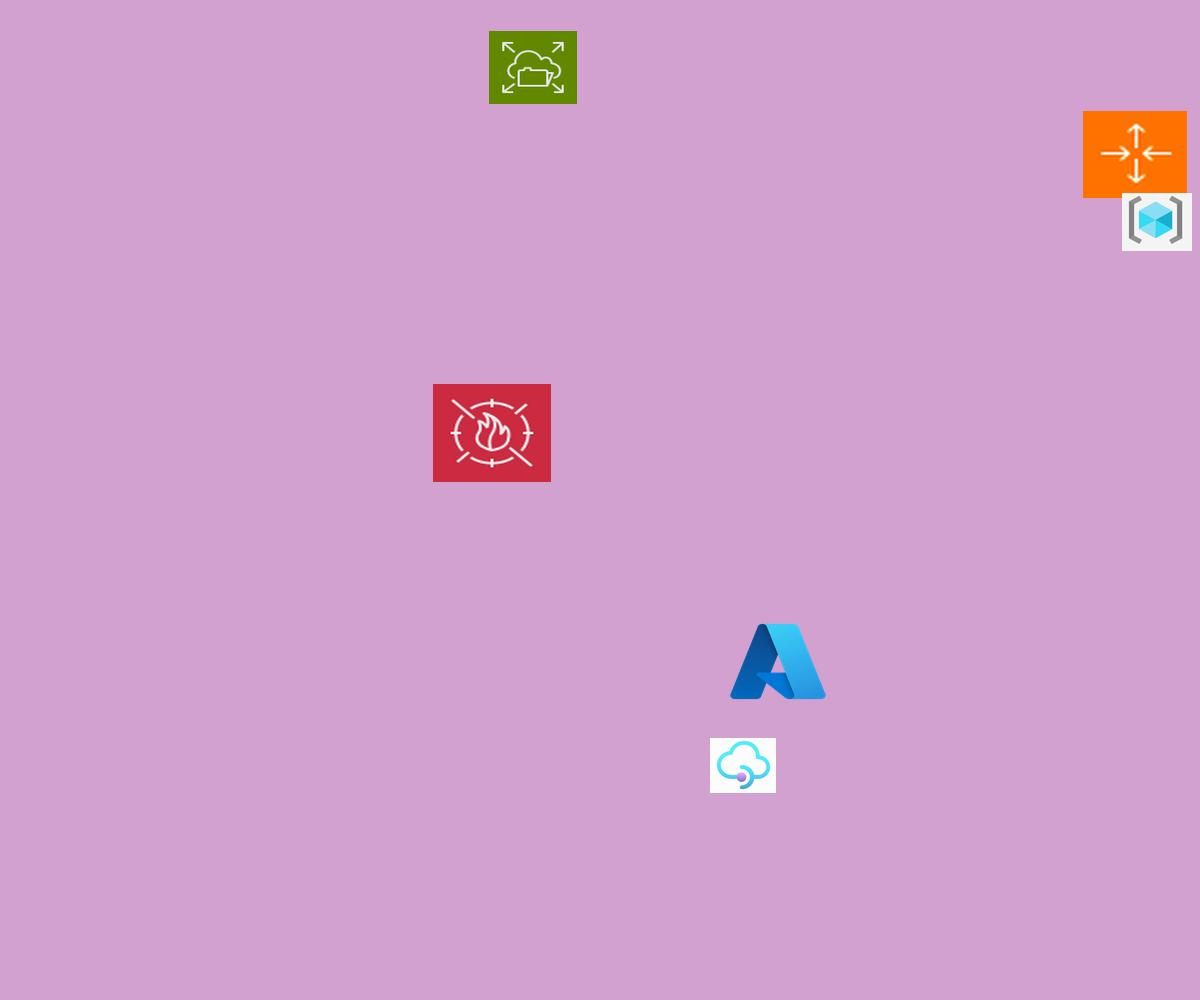AWS-EFS: (489, 31, 577, 104)
AWS-Scaling-group: (1083, 111, 1187, 198)
AWS-WAF: (433, 384, 551, 482)
Azure_api_gateway: (710, 738, 776, 793)
Azure_resource_group: (1122, 193, 1192, 251)
Azure_services: (726, 618, 830, 705)
